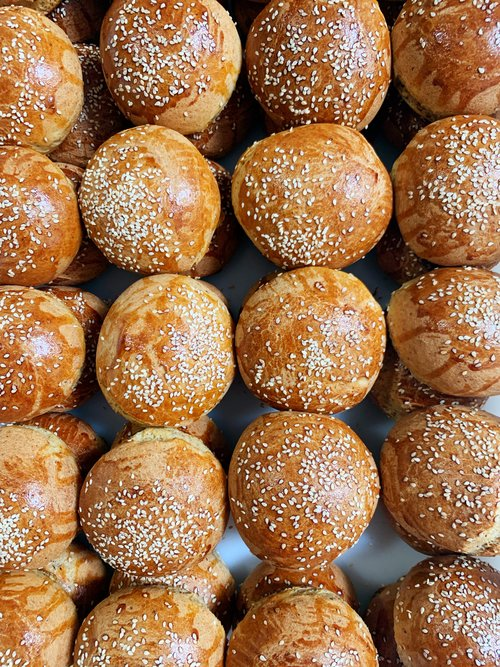hamburger_buns: (95, 34, 434, 621)
